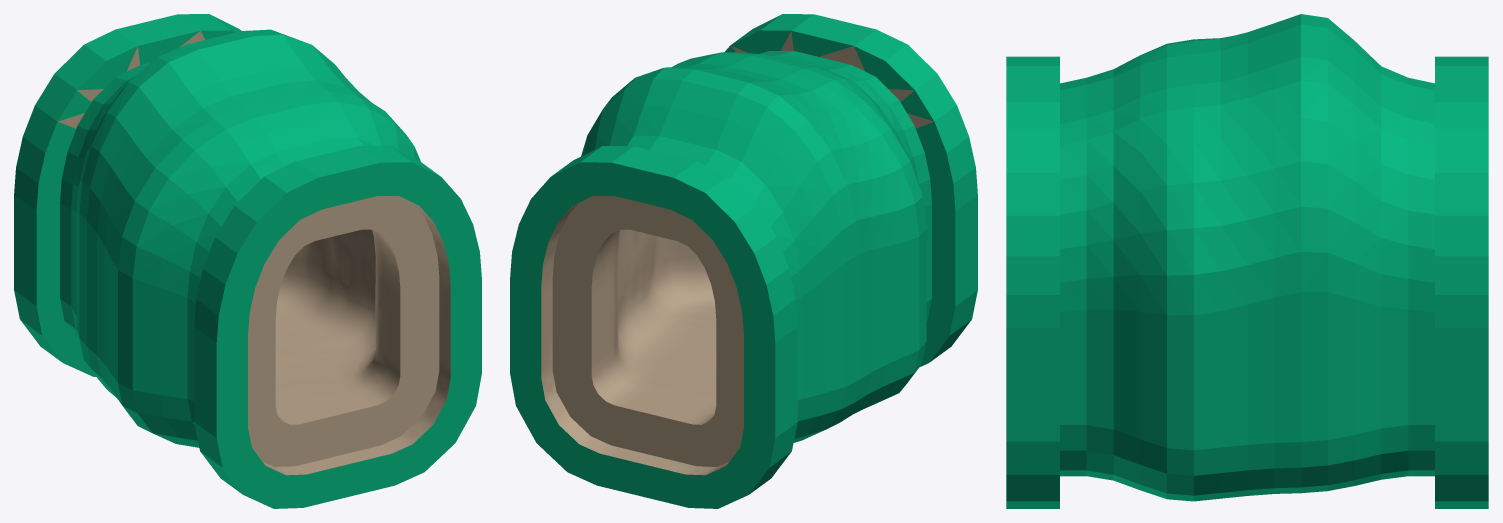
The model's file is TT_Straight_4_C.fbx.
3 renders of one model, left to right at view 1: azimuth 30°, elevation 25°; view 2: azimuth 150°, elevation 25°; view 3: azimuth 270°, elevation 25°, orthographic. The views are drawn at different scales.
Parts seen in each view (by area): view 1: TT_Straight_4_C_LOD0; view 2: TT_Straight_4_C_LOD0; view 3: TT_Straight_4_C_LOD0.
Boxes of the visible parts, <box> form: TT_Straight_4_C_LOD0: <box>14,14,481,508</box>; TT_Straight_4_C_LOD0: <box>510,14,977,508</box>; TT_Straight_4_C_LOD0: <box>1006,14,1488,508</box>.
Size of the model in its own units: 391 by 445 by 450.
